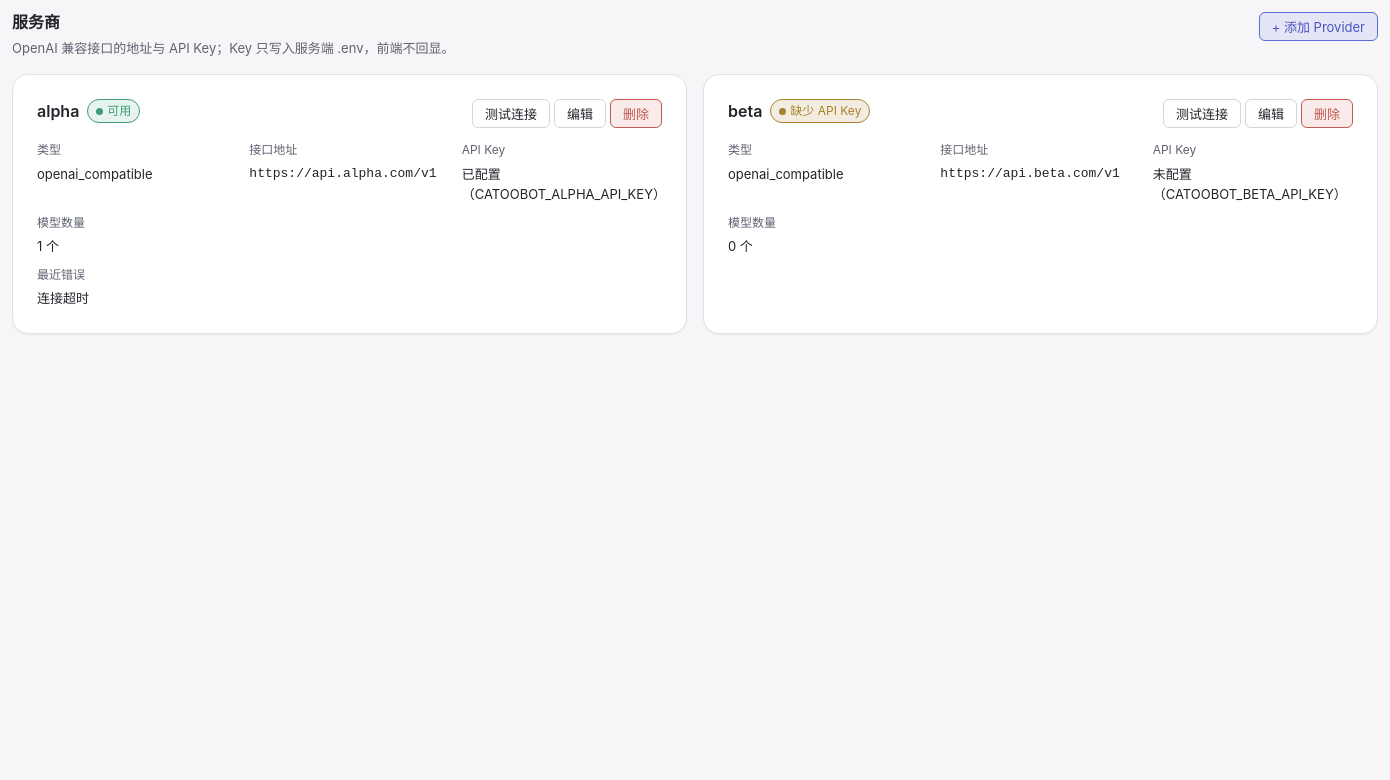
Test: AiProviders › tests a connection through the credentials endpoint and shows the result
The width and height of the screenshot is (1390, 780).
What coordinates should you click on to do the following:
click the button with test id "test-provider" in the row of "可用"
I would click on:
 (511, 114)
Its box is [472,99,550,128].
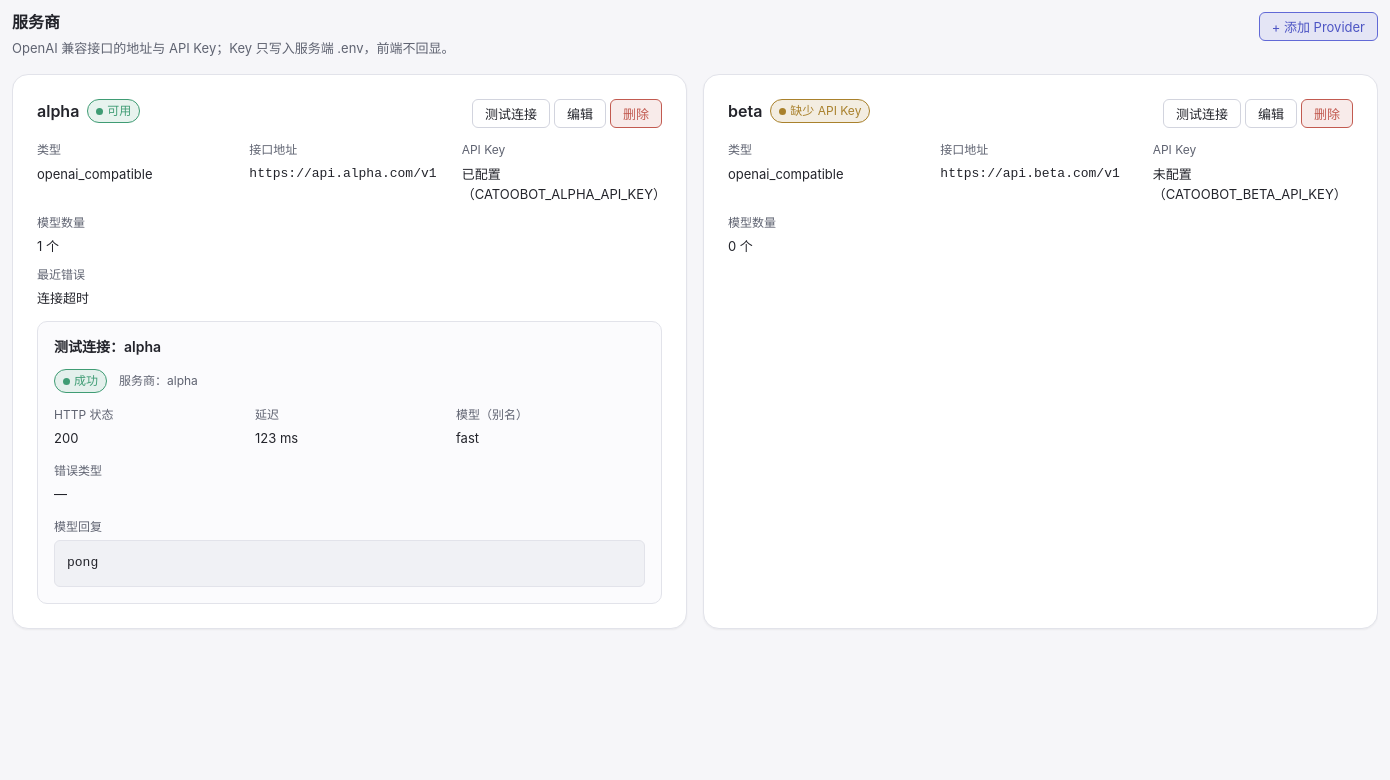
Check: the element with test id "test-result-panel" shows "成功", box [74,373,98,388]
Check: the element with test id "test-result-panel" shows "123 ms", box [255,430,298,446]
Check: the text with test id "test-reply" reads "pong", box [67,555,98,570]
